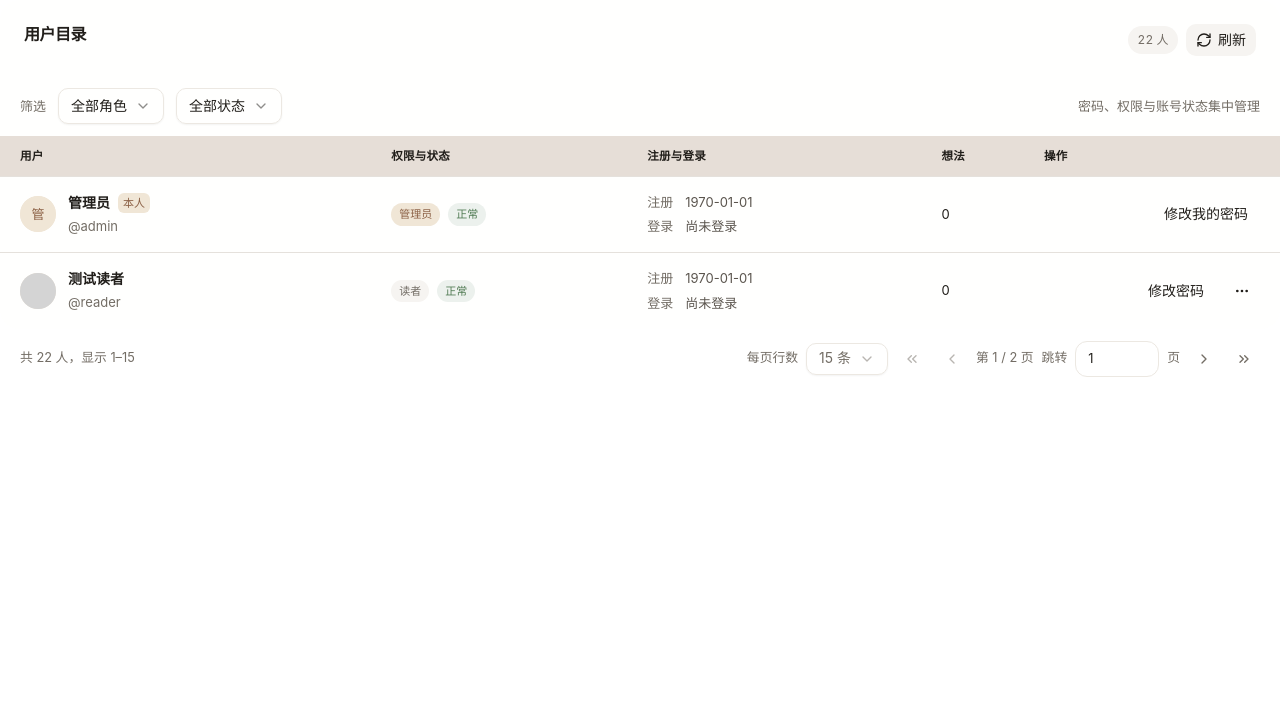
Scenario: 用户目录与直接修改密码 › 保存期间防止重复提交和关闭，失败后保留表单可重试
Step 1. Click the button "修改密码" → (1176, 291), box [1136, 275, 1216, 307]
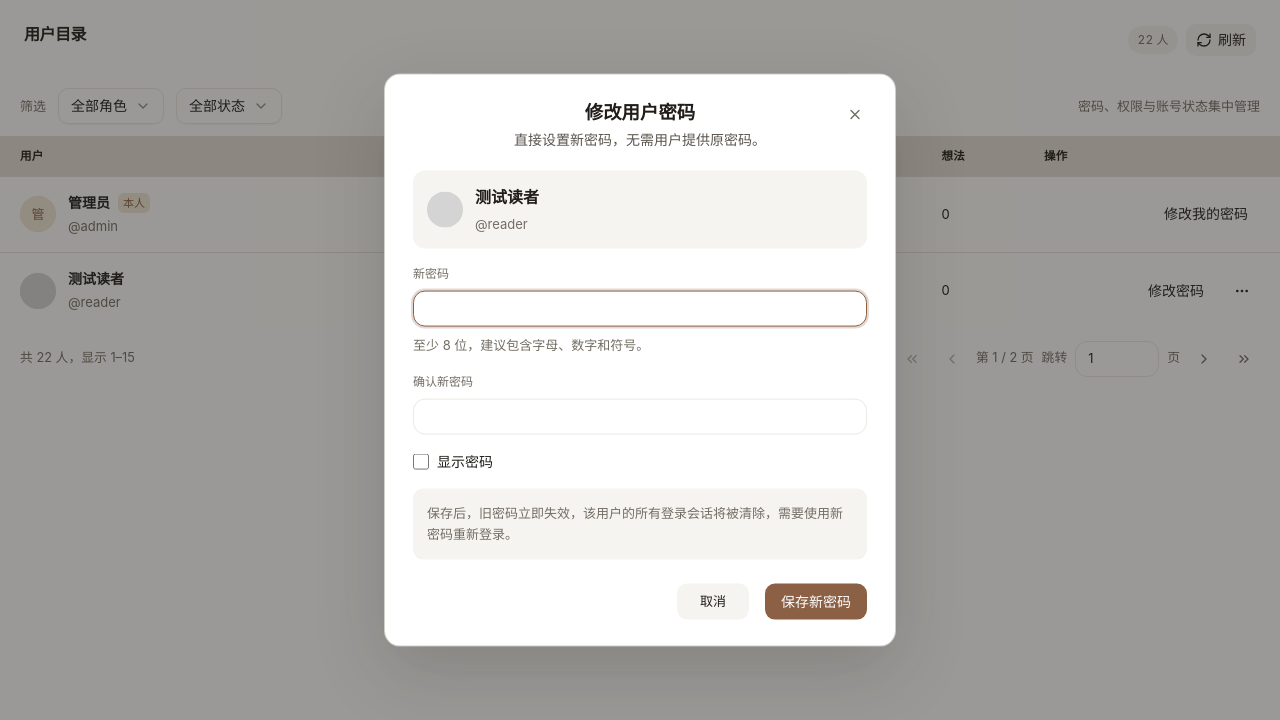
Step 2. Type "Reader-new-123" into the password field labelled "新密码" → (640, 309), box [413, 291, 867, 327]
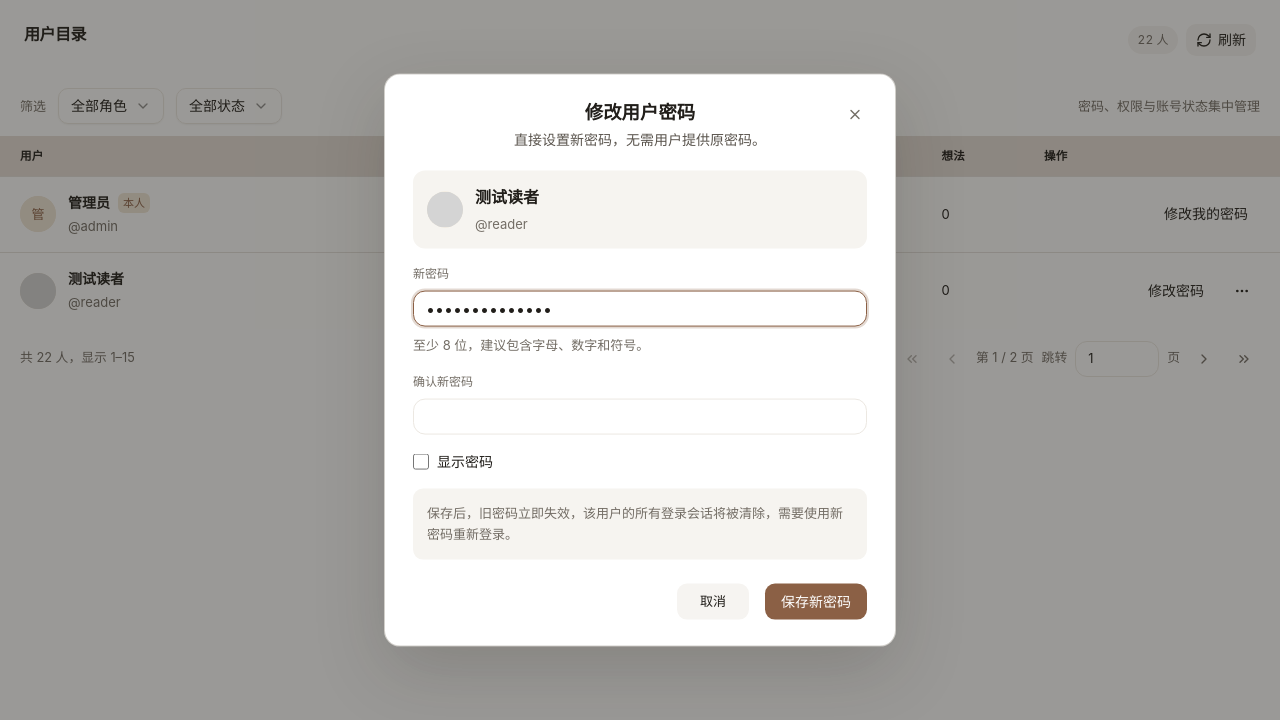
Step 3. Type "Reader-new-123" into the password field labelled "确认新密码" → (640, 416), box [413, 398, 867, 434]
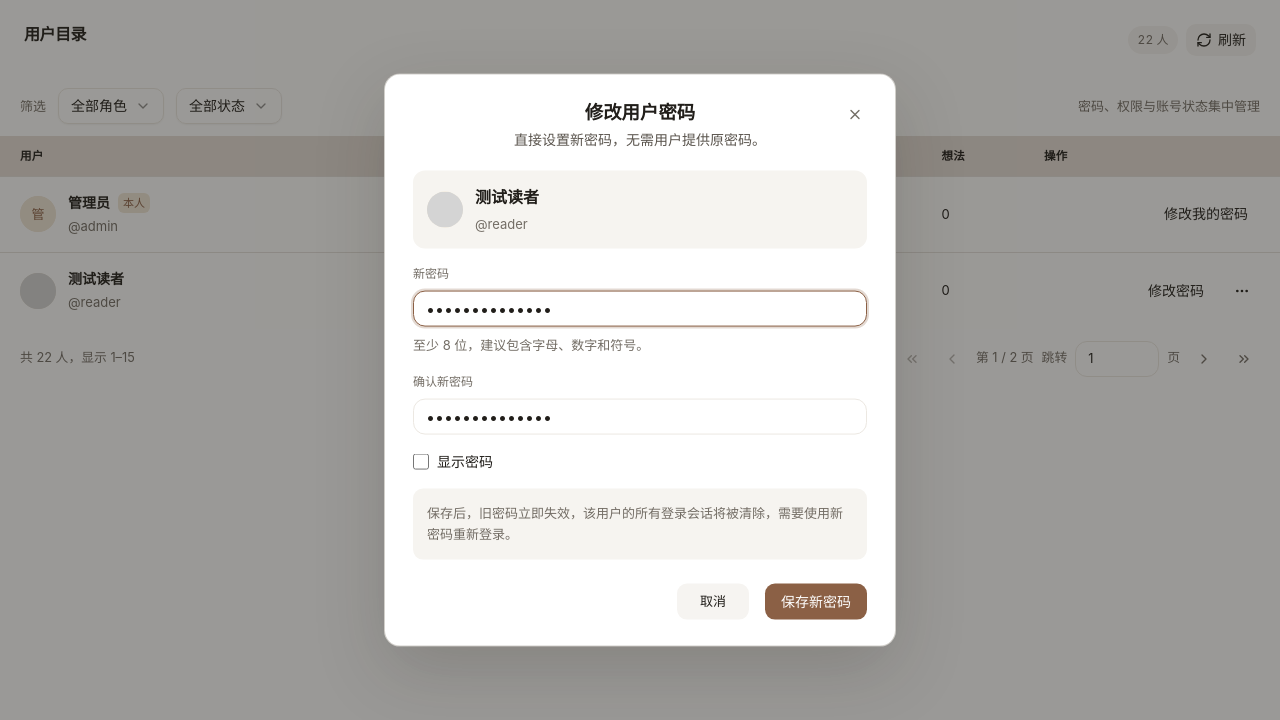
Step 4. Click the button "保存新密码" → (816, 601), box [765, 583, 867, 619]
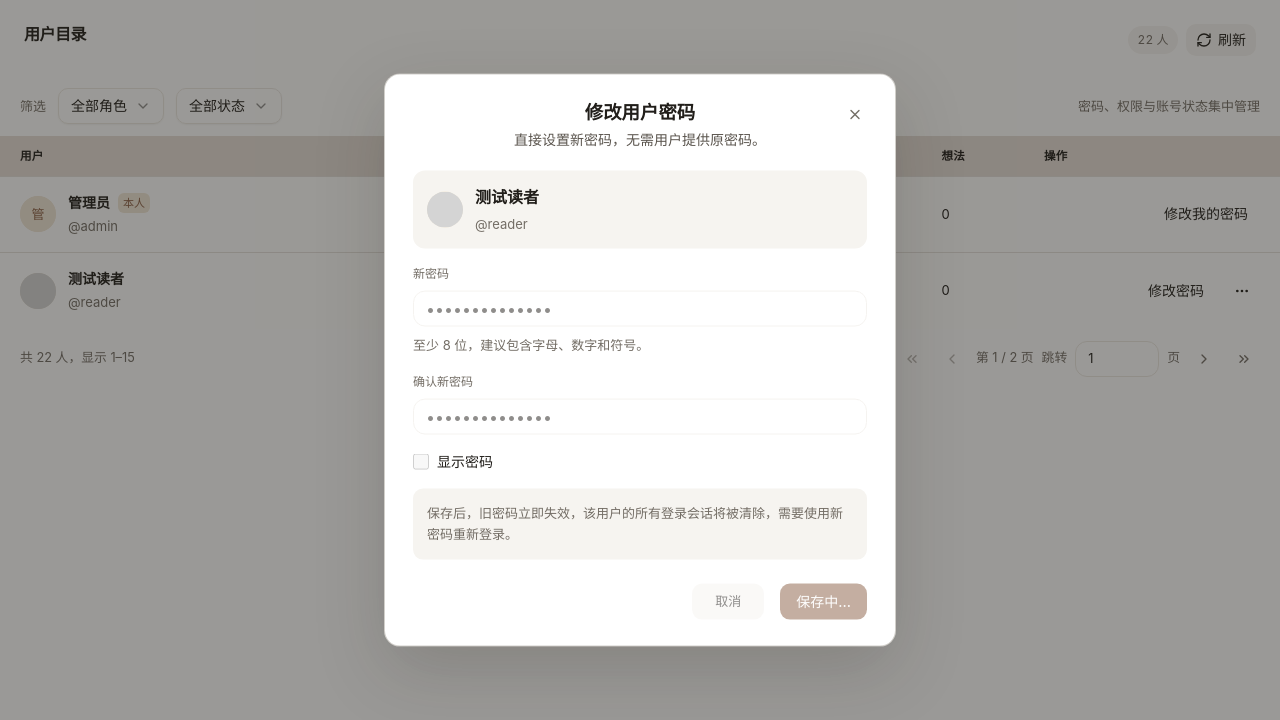
expect the button "保存中…" is disabled: met, box [780, 583, 867, 619]
expect the button "取消" is disabled: met, box [692, 583, 764, 619]
Step 5. Press Escape
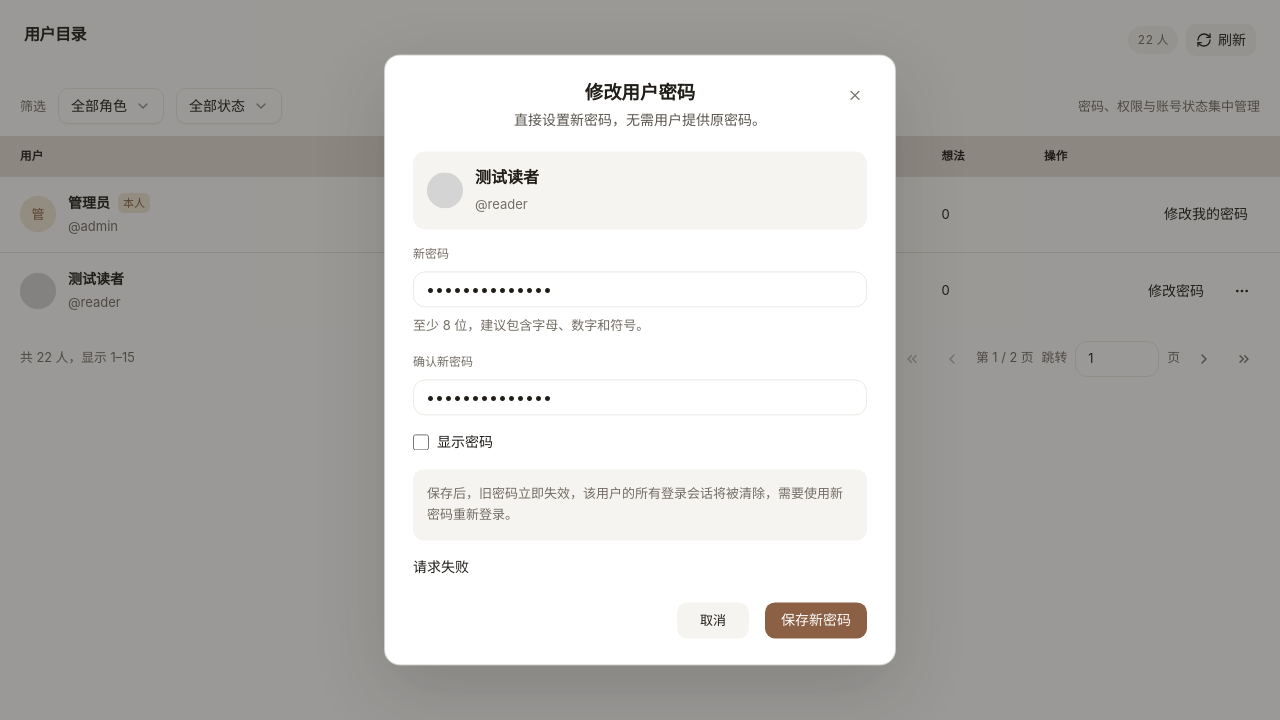
expect the dialog is shown: met, box [384, 54, 896, 666]
expect the message reads "请求失败": met, box [413, 558, 469, 575]
Step 6. Click the button "保存新密码" → (816, 621), box [765, 603, 867, 639]
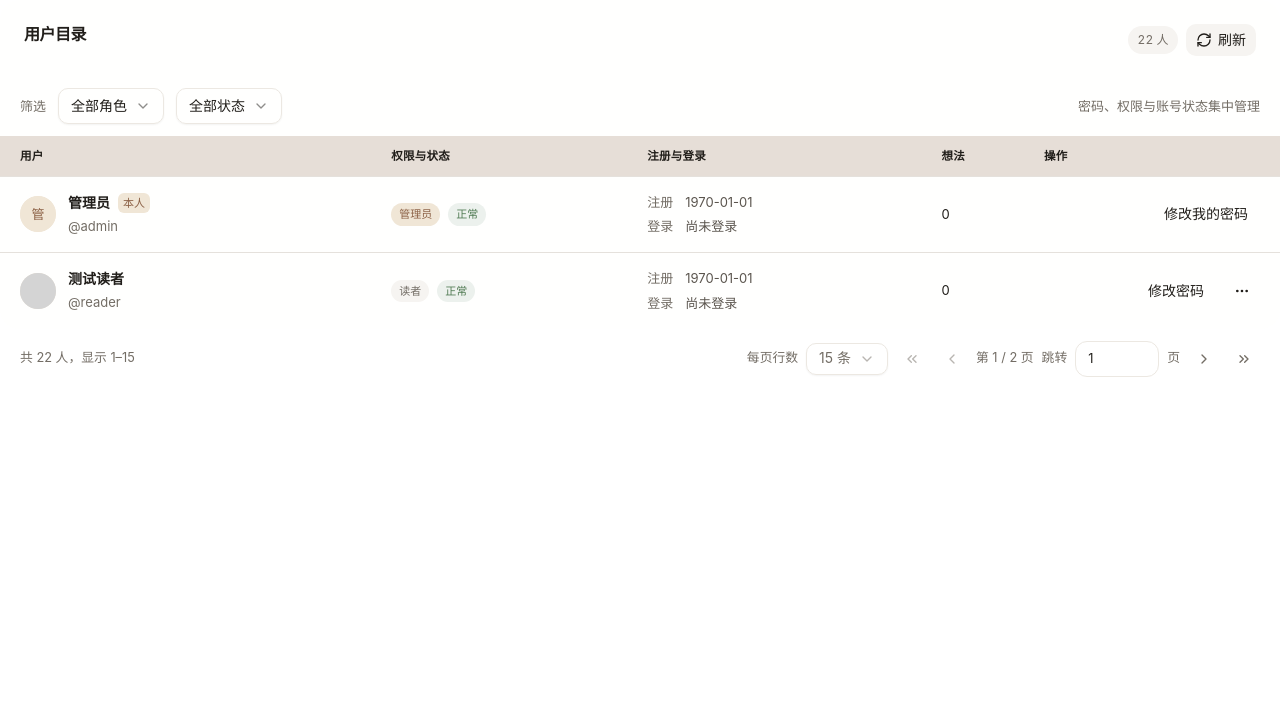
expect the dialog is gone: met
